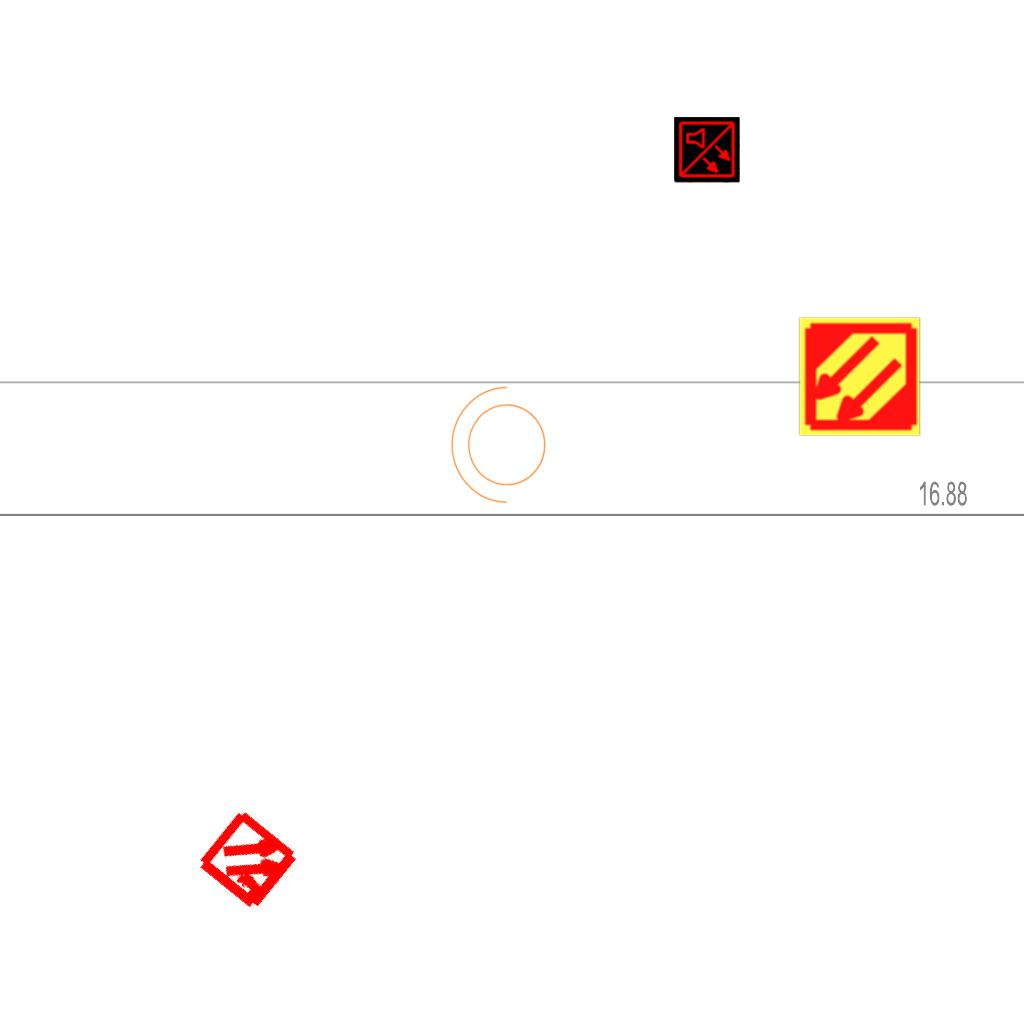ASR_Ansaugrauchmelder: (797, 314, 922, 439)
OKW_Multisensormelder_(Kombination_optischer_Rauch-Kahlenmonoxid_Waerme-Melder): (674, 117, 740, 183)
OT_Multisensormelder_(Kombination_RMO_WMD): (170, 782, 329, 941)
Scheinwerfer_fuer_Alarmbeleuchtung: (446, 382, 558, 514)
